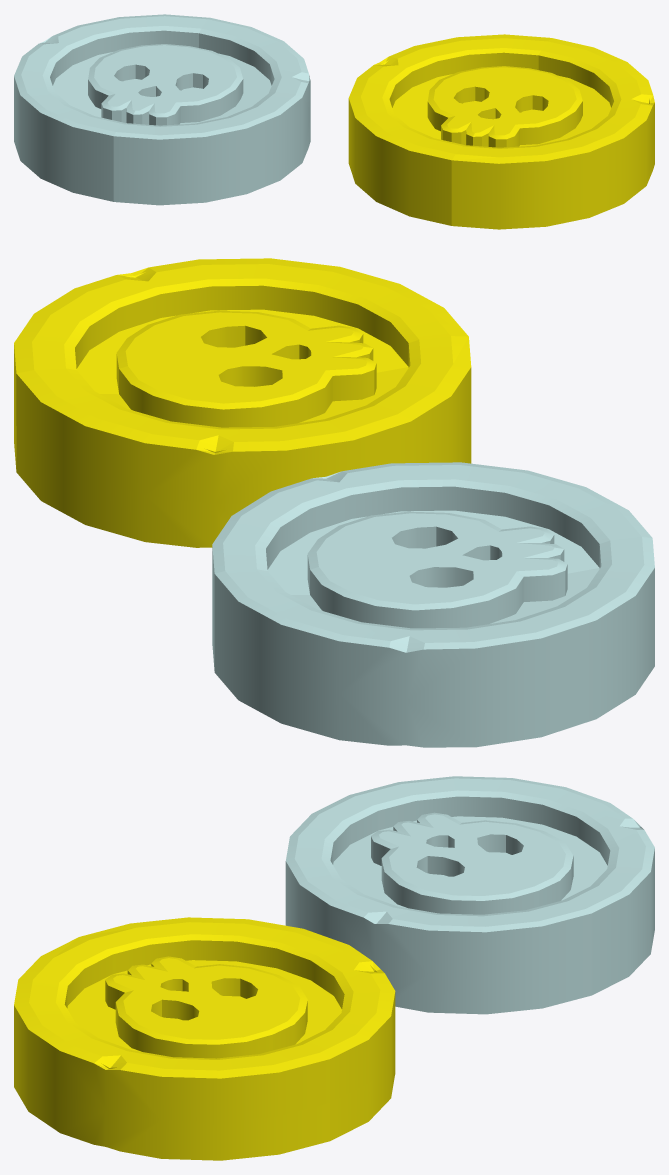
File: coins.fbx
3 renders of one model, top to bottom at view 1: azimuth 30°, elevation 25°; view 2: azimuth 150°, elevation 25°; view 3: azimuth 270°, elevation 25°, orthographic. The views are drawn at different scales.
Parts seen in each view (by area): view 1: Cilindro.001, Cilindro.002; view 2: Cilindro.002, Cilindro.001; view 3: Cilindro.001, Cilindro.002.
Boxes of the visible parts, bbox=[...] form: Cilindro.001: bbox=[348, 34, 654, 229]; Cilindro.002: bbox=[14, 14, 310, 205]; Cilindro.002: bbox=[212, 462, 654, 747]; Cilindro.001: bbox=[14, 258, 471, 547]; Cilindro.001: bbox=[14, 917, 395, 1160]; Cilindro.002: bbox=[285, 776, 654, 1014].
Bounding box in the file's own units: 640 × 86.05 × 577.
